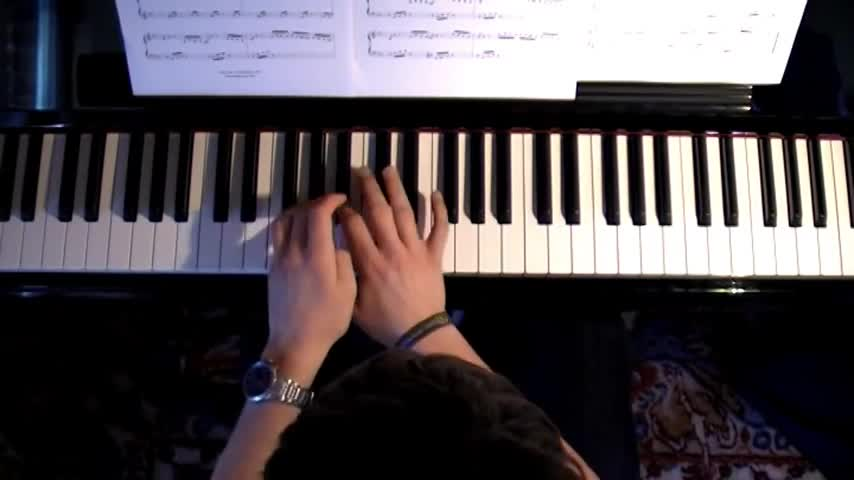left: (258, 189, 358, 344)
right: (330, 162, 450, 340)
